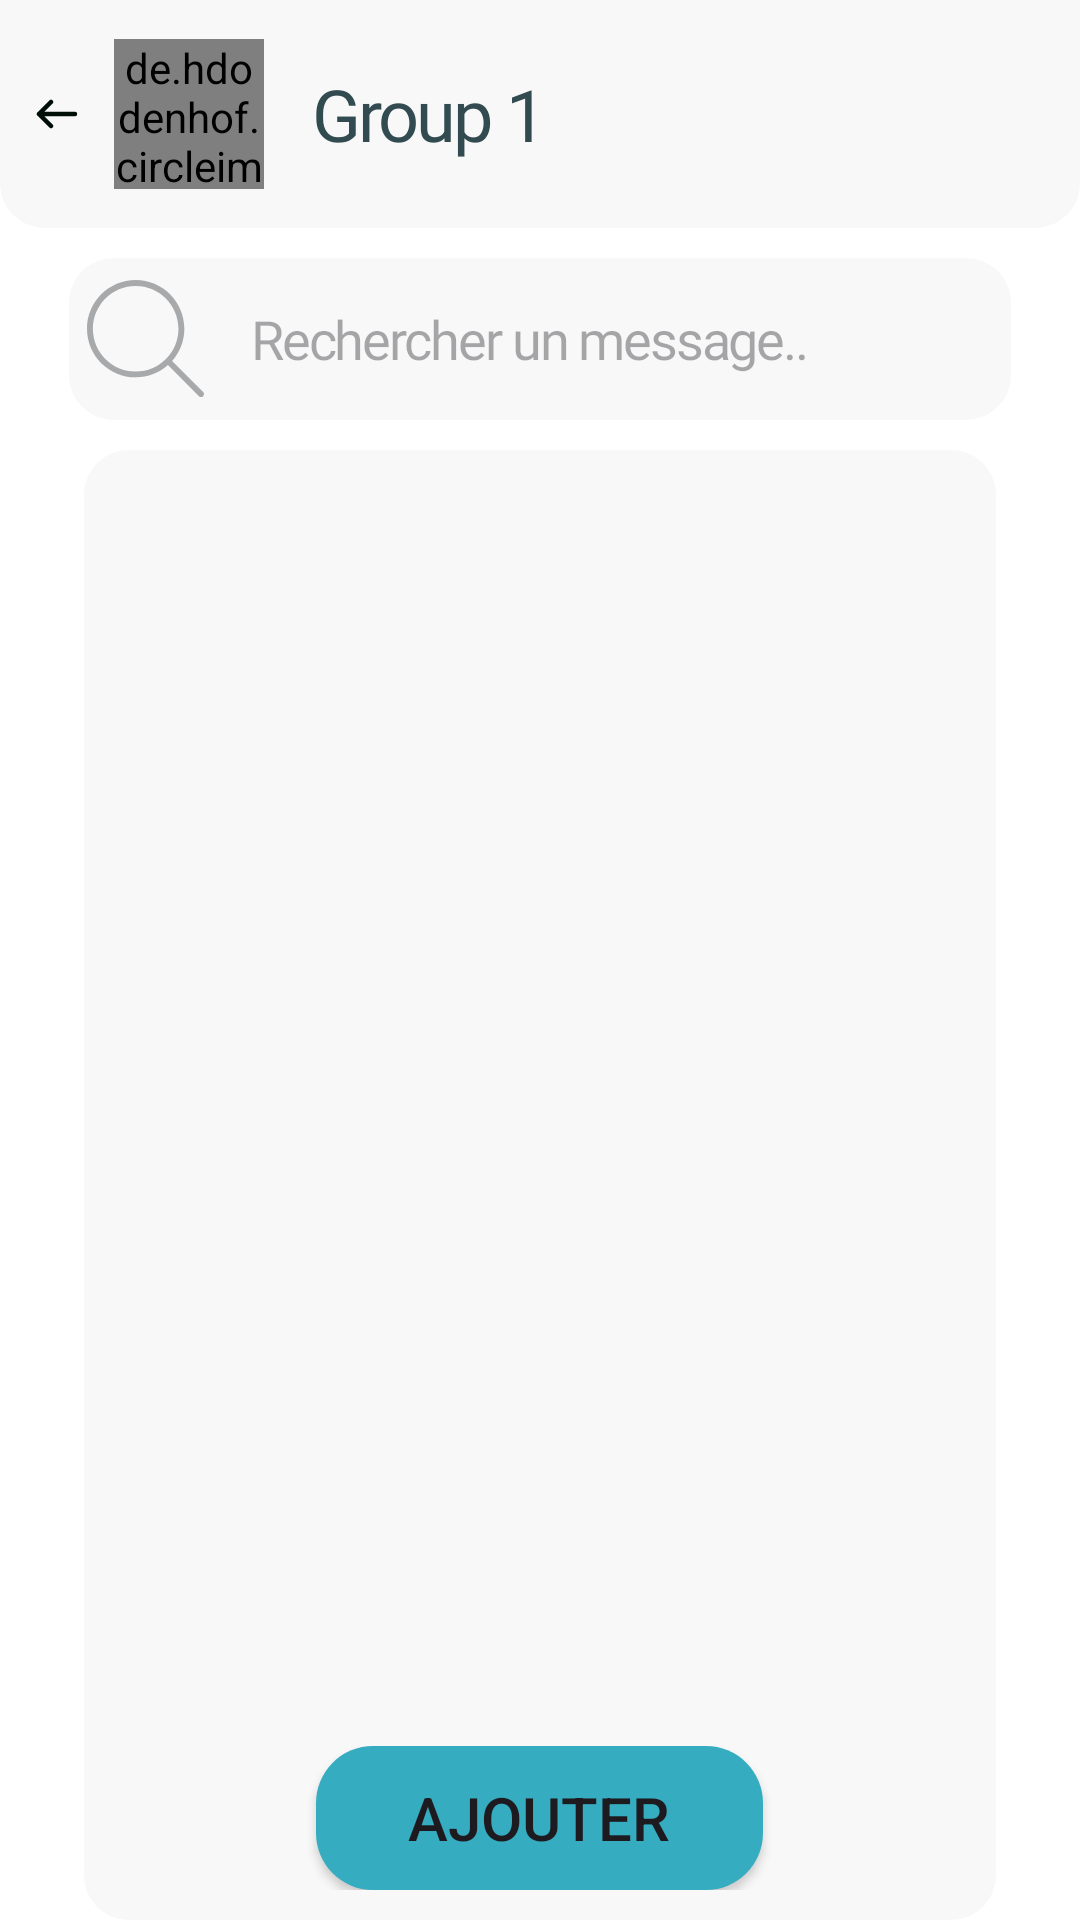

Screen size 1080w x 1920h. Icon name, then its box in pixels as (x1, y1, x2, y2):
arrow: (36, 99, 77, 129)
